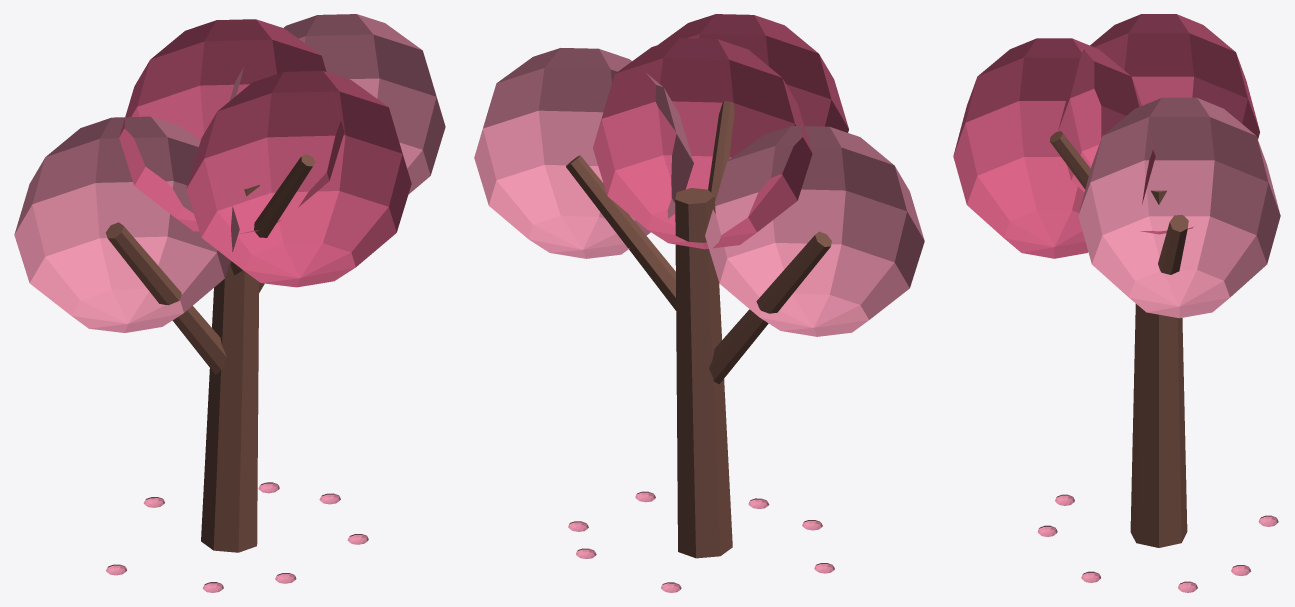
The model's file is turning-seasons-spring-orchard-tree-4f507ab0.glb.
3 renders of one model, left to right at view 1: azimuth 30°, elevation 25°; view 2: azimuth 150°, elevation 25°; view 3: azimuth 270°, elevation 25°, orthographic. The views are drawn at different scales.
Visible parts, largest first — view 1: spring-orchard-tree; view 2: spring-orchard-tree; view 3: spring-orchard-tree.
Boxes of the visible parts, x1,y1,x2,y2 form: spring-orchard-tree: (14, 14, 445, 592); spring-orchard-tree: (474, 14, 924, 592); spring-orchard-tree: (953, 14, 1280, 592).
Size of the model in its own units: 2.83 by 3.31 by 1.91.
